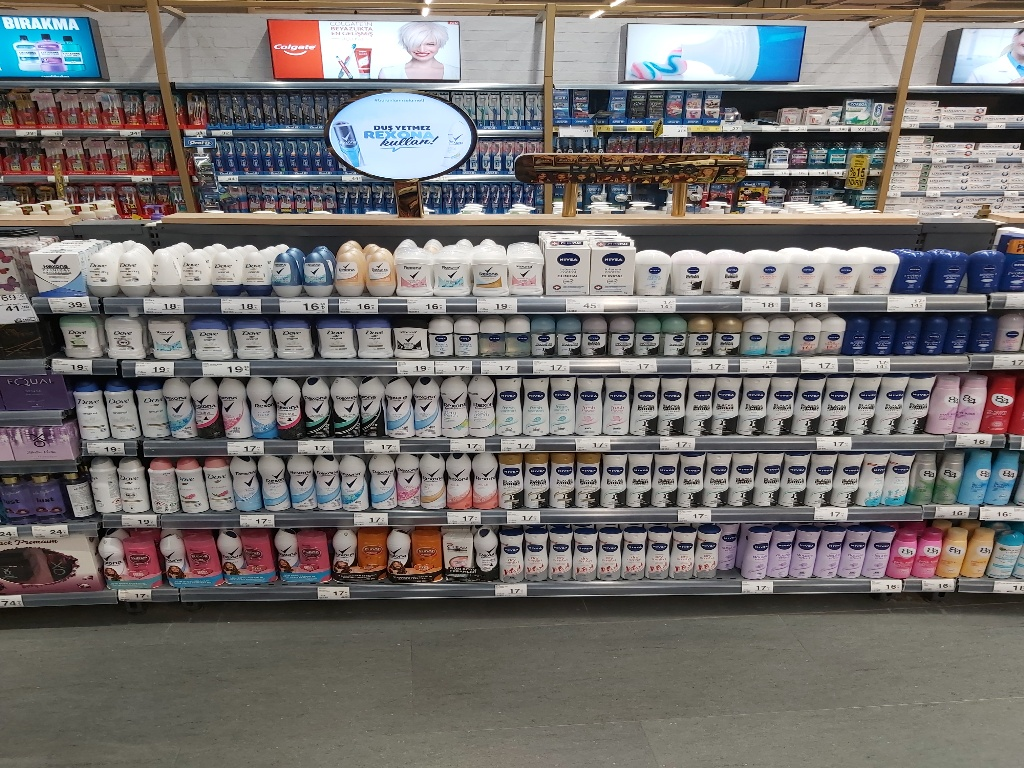urun: (544, 232, 593, 301), (589, 232, 637, 301), (631, 241, 673, 297), (72, 370, 104, 443), (215, 367, 247, 438), (671, 246, 712, 301), (710, 241, 751, 296), (104, 370, 136, 440), (133, 370, 165, 440), (160, 369, 192, 439), (189, 370, 221, 440), (244, 367, 274, 440), (435, 369, 465, 442), (468, 367, 498, 440), (518, 370, 548, 443), (627, 372, 657, 445), (655, 370, 685, 443), (710, 371, 740, 444), (765, 372, 795, 445), (852, 370, 882, 443), (929, 366, 959, 439), (989, 365, 1019, 438), (507, 239, 545, 296), (970, 238, 1010, 292), (325, 364, 355, 436), (433, 242, 471, 298), (471, 241, 509, 297), (381, 520, 417, 579), (435, 522, 471, 581), (490, 525, 526, 584), (269, 365, 298, 438), (356, 365, 385, 438), (383, 369, 412, 442), (411, 366, 440, 439), (493, 369, 522, 442), (548, 370, 577, 443), (575, 366, 604, 439), (603, 369, 632, 442), (685, 370, 714, 443), (739, 369, 768, 442), (795, 371, 824, 444), (822, 369, 851, 442), (876, 367, 905, 440), (900, 370, 929, 443), (959, 366, 988, 439), (297, 364, 326, 436), (466, 524, 502, 582), (102, 310, 145, 356), (783, 244, 824, 292), (820, 244, 861, 292), (115, 448, 142, 520), (175, 449, 202, 521), (230, 448, 257, 520), (257, 445, 284, 517), (285, 448, 312, 520), (311, 448, 338, 520), (339, 448, 366, 520), (394, 444, 421, 516), (421, 444, 448, 516), (443, 445, 470, 517), (471, 443, 498, 515), (495, 445, 522, 517), (522, 443, 549, 515), (548, 443, 575, 515), (600, 444, 627, 516), (627, 443, 654, 515), (677, 444, 704, 516), (759, 443, 786, 515), (785, 443, 812, 515), (810, 445, 837, 517), (859, 444, 886, 516), (916, 440, 943, 512), (961, 434, 988, 506), (58, 314, 100, 360), (146, 312, 188, 358), (188, 312, 230, 358), (229, 311, 271, 357), (270, 312, 312, 358), (314, 311, 356, 357), (745, 247, 786, 294), (353, 311, 394, 358), (87, 451, 114, 522), (147, 451, 174, 522), (366, 447, 393, 518), (576, 442, 603, 513), (654, 442, 681, 513), (731, 442, 758, 513), (831, 442, 858, 513), (938, 438, 965, 509), (390, 316, 429, 365), (204, 445, 230, 517), (707, 444, 733, 516), (890, 443, 916, 515), (995, 435, 1021, 507), (328, 518, 360, 575), (239, 521, 271, 577), (271, 516, 303, 572), (896, 243, 931, 293), (933, 239, 968, 289), (88, 522, 118, 580), (147, 242, 179, 296), (177, 242, 209, 296), (207, 243, 239, 297), (238, 239, 270, 293), (269, 244, 301, 298), (298, 243, 330, 297), (365, 243, 397, 297), (398, 243, 430, 297), (863, 247, 897, 297), (115, 241, 147, 294), (330, 241, 362, 294), (119, 521, 148, 579), (214, 517, 243, 575), (596, 522, 625, 580), (669, 521, 698, 579), (815, 522, 844, 580), (154, 524, 183, 581), (183, 520, 212, 577), (522, 527, 550, 585), (571, 522, 599, 580), (621, 521, 649, 579), (698, 521, 726, 579), (771, 521, 799, 579), (544, 525, 572, 582), (643, 525, 671, 582), (744, 516, 772, 573), (795, 520, 823, 577), (865, 521, 890, 580), (844, 521, 868, 580), (919, 517, 943, 576), (946, 513, 970, 572), (972, 513, 996, 572), (890, 515, 914, 573), (456, 311, 483, 360), (479, 311, 506, 360), (531, 311, 558, 360), (558, 311, 585, 360), (584, 311, 611, 360), (636, 311, 663, 360), (662, 308, 689, 357), (687, 308, 714, 357), (745, 311, 772, 360), (819, 306, 846, 355), (846, 311, 873, 360), (873, 308, 900, 357), (895, 311, 922, 360), (920, 308, 947, 357), (942, 307, 969, 356), (974, 308, 1001, 357), (426, 314, 453, 362), (772, 310, 799, 358), (790, 305, 817, 353), (506, 311, 532, 360), (611, 308, 637, 357), (716, 308, 742, 357)
urun2: (83, 239, 115, 293)
